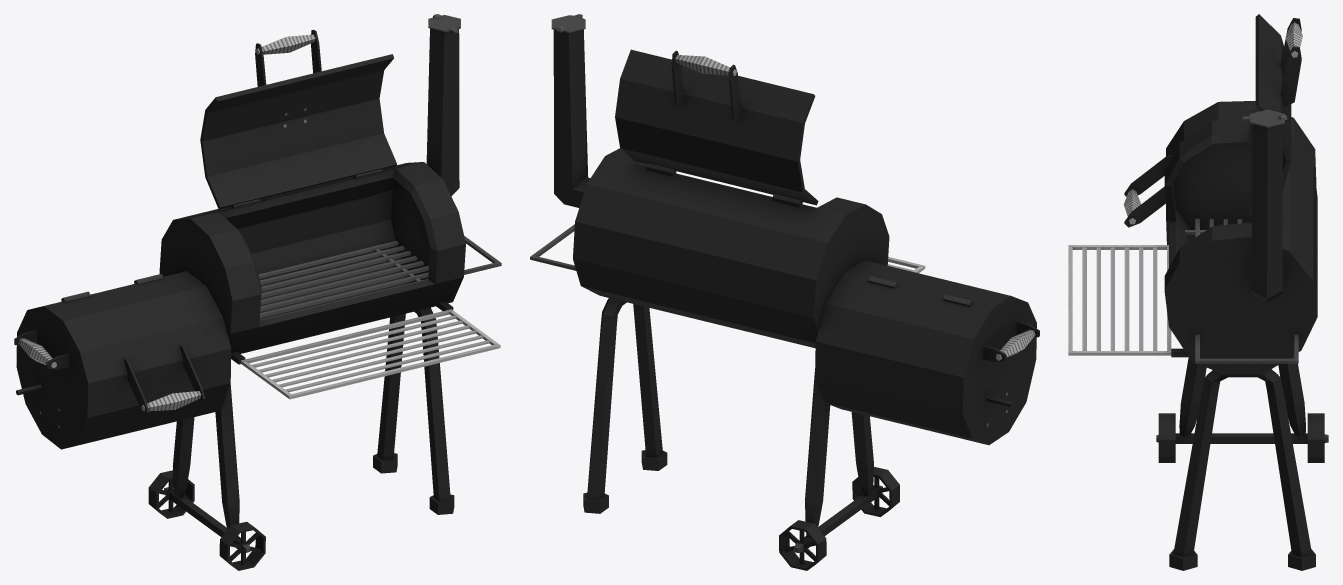
The model's file is BBQGrill.obj.
The picture shows the model from 3 angles, left to right: view 1: azimuth 30°, elevation 25°; view 2: azimuth 150°, elevation 25°; view 3: azimuth 270°, elevation 25°; orthographic projection. The views are drawn at different scales.
Parts seen in each view (by area): view 1: BBQGrill_Mesh; view 2: BBQGrill_Mesh; view 3: BBQGrill_Mesh.
Part boxes in pixels (<box>): BBQGrill_Mesh: <box>14,14,501,570</box>; BBQGrill_Mesh: <box>530,14,1039,570</box>; BBQGrill_Mesh: <box>1068,14,1328,570</box>.
Bounding box in the file's own units: 5.11 × 4.98 × 2.44.
1 material, 1 textured.
